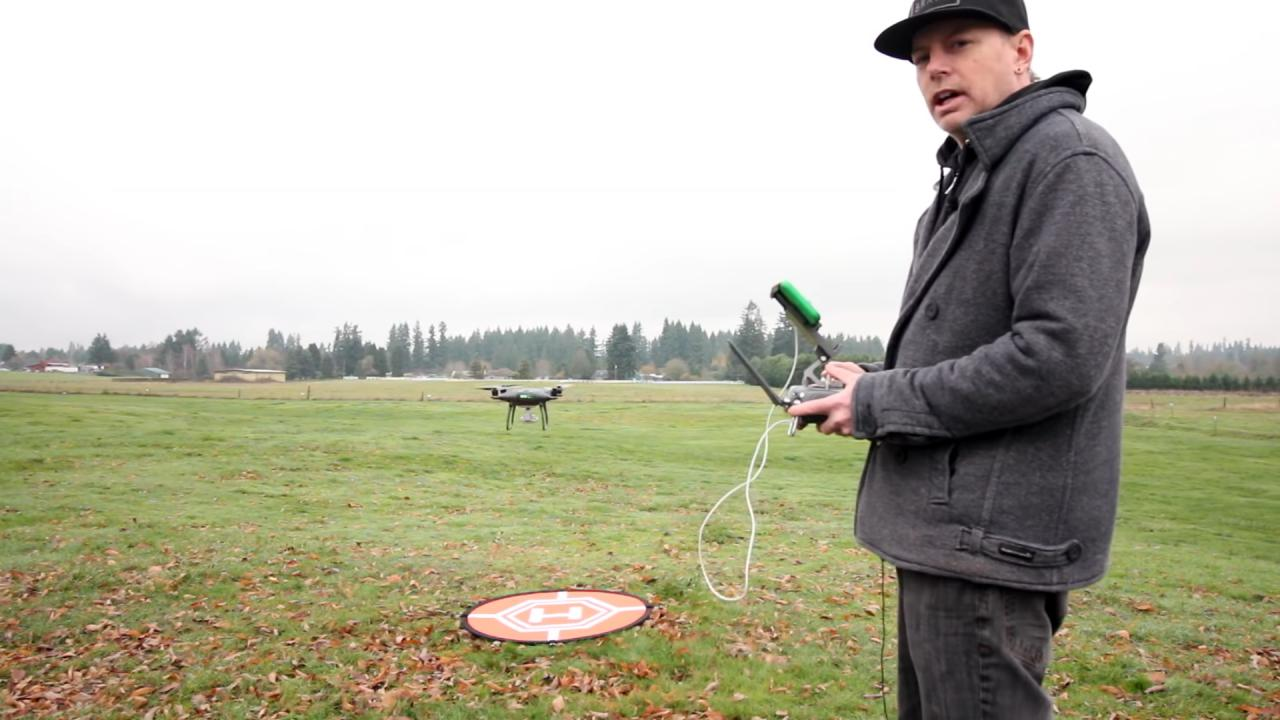Drone: (478, 370, 576, 441)
